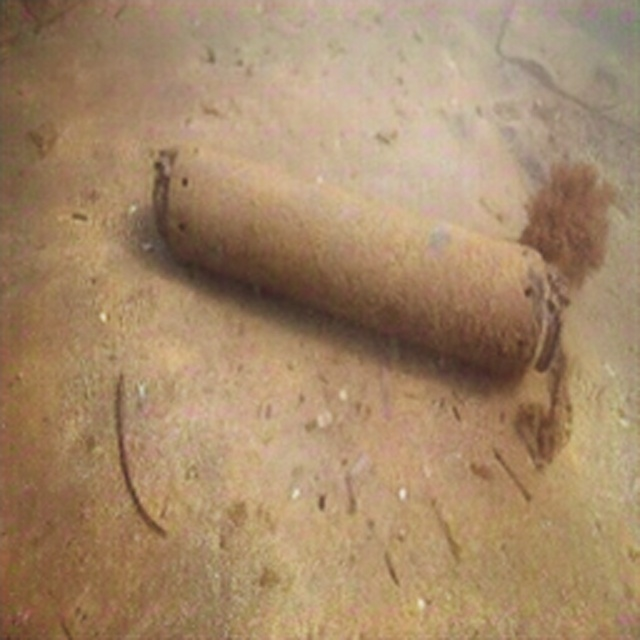mine: (152, 140, 566, 380)
